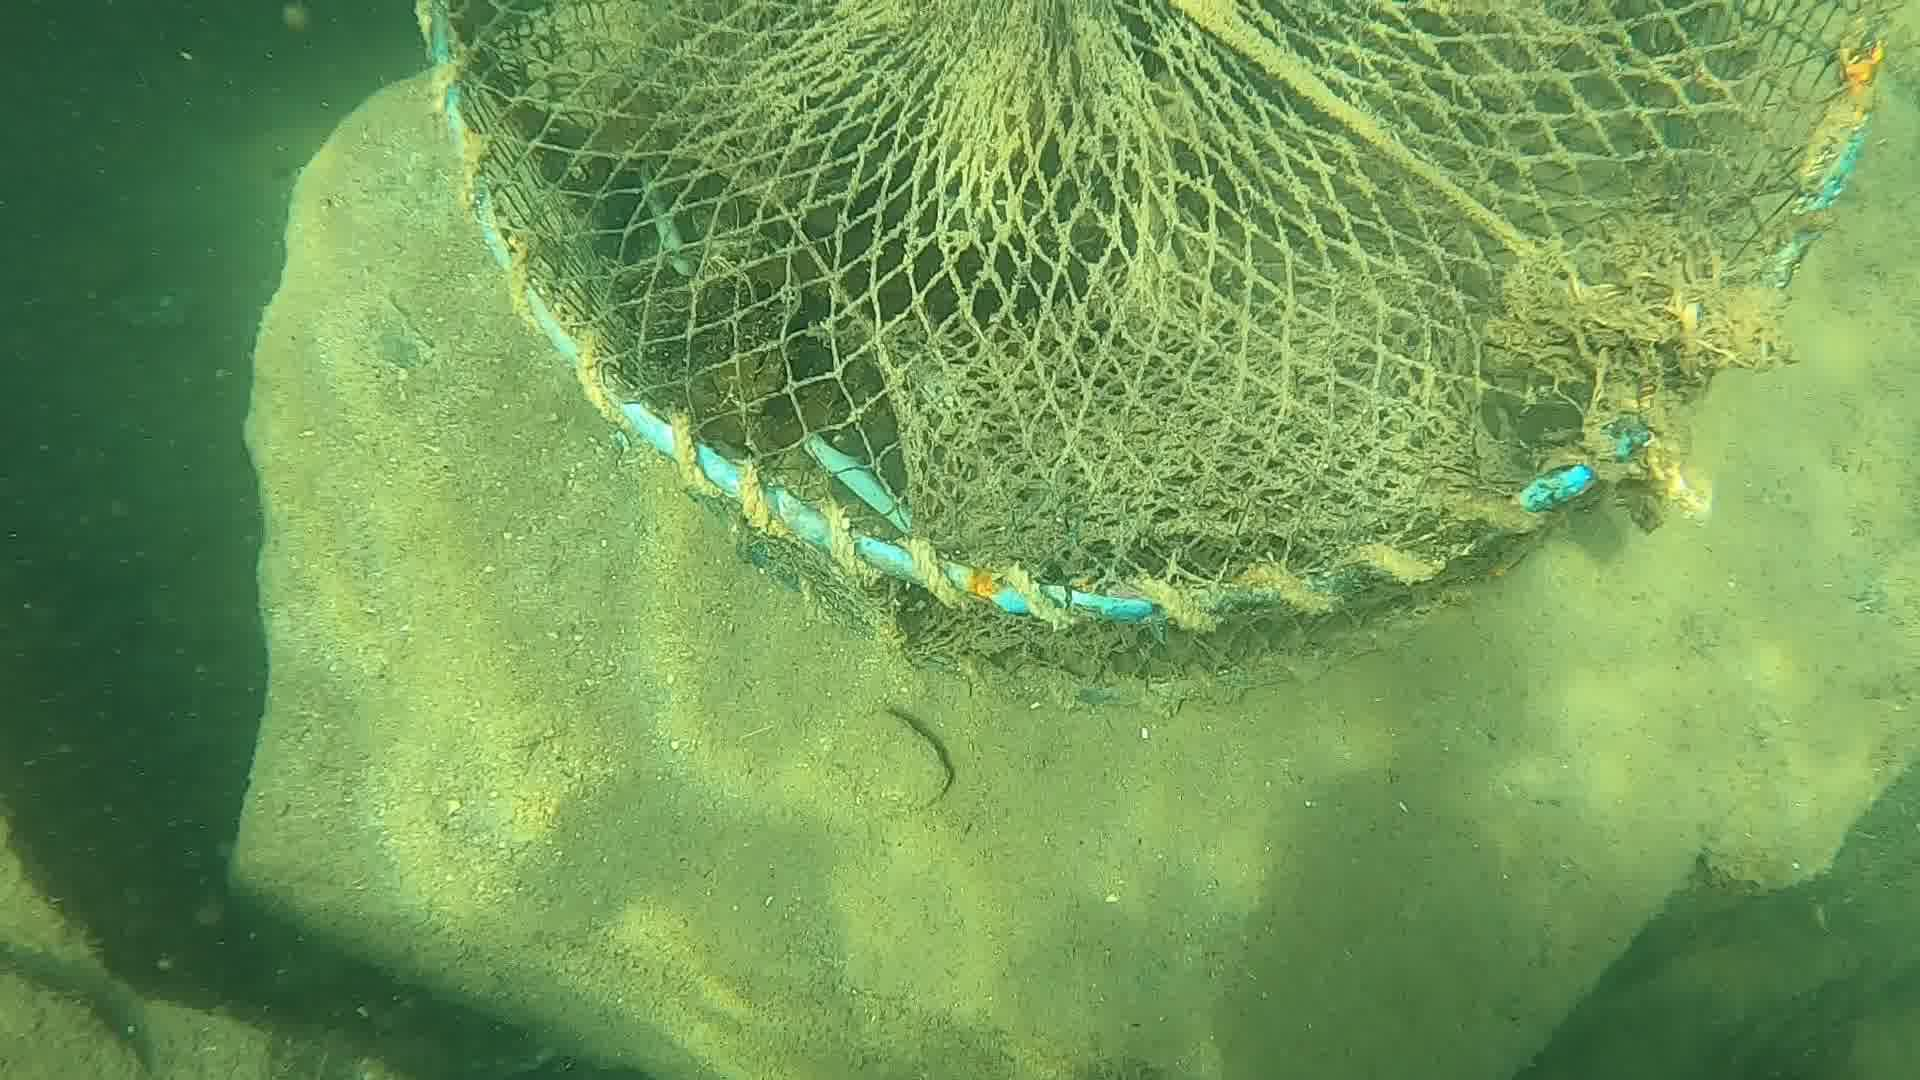circular fish trap: (419, 1, 1890, 698)
